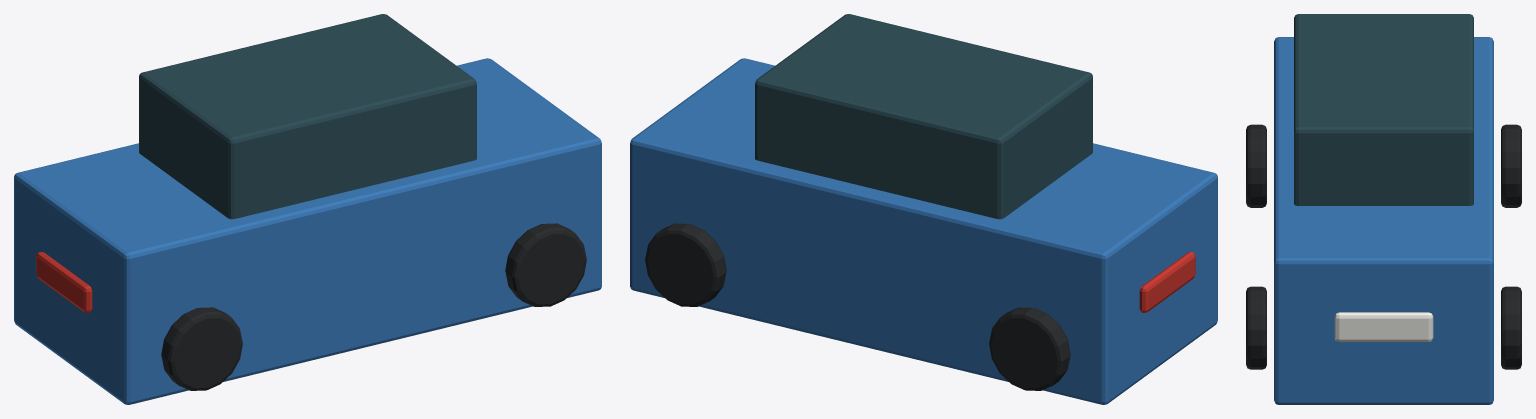
File: Vehicle_001.glb
3 views of the same model, side by side, from view 1: azimuth 30°, elevation 25°; view 2: azimuth 150°, elevation 25°; view 3: azimuth 270°, elevation 25° (orthographic). The views are drawn at different scales.
Parts seen in each view (by area): view 1: Vehicle_001; view 2: Vehicle_001; view 3: Vehicle_001.
Boxes of the visible parts, left/top/right/bottom form: Vehicle_001: left=14, top=14, right=601, bottom=404; Vehicle_001: left=630, top=14, right=1217, bottom=404; Vehicle_001: left=1246, top=14, right=1521, bottom=404.
Size of the model in its own units: 4.77 by 2.14 by 2.38.
